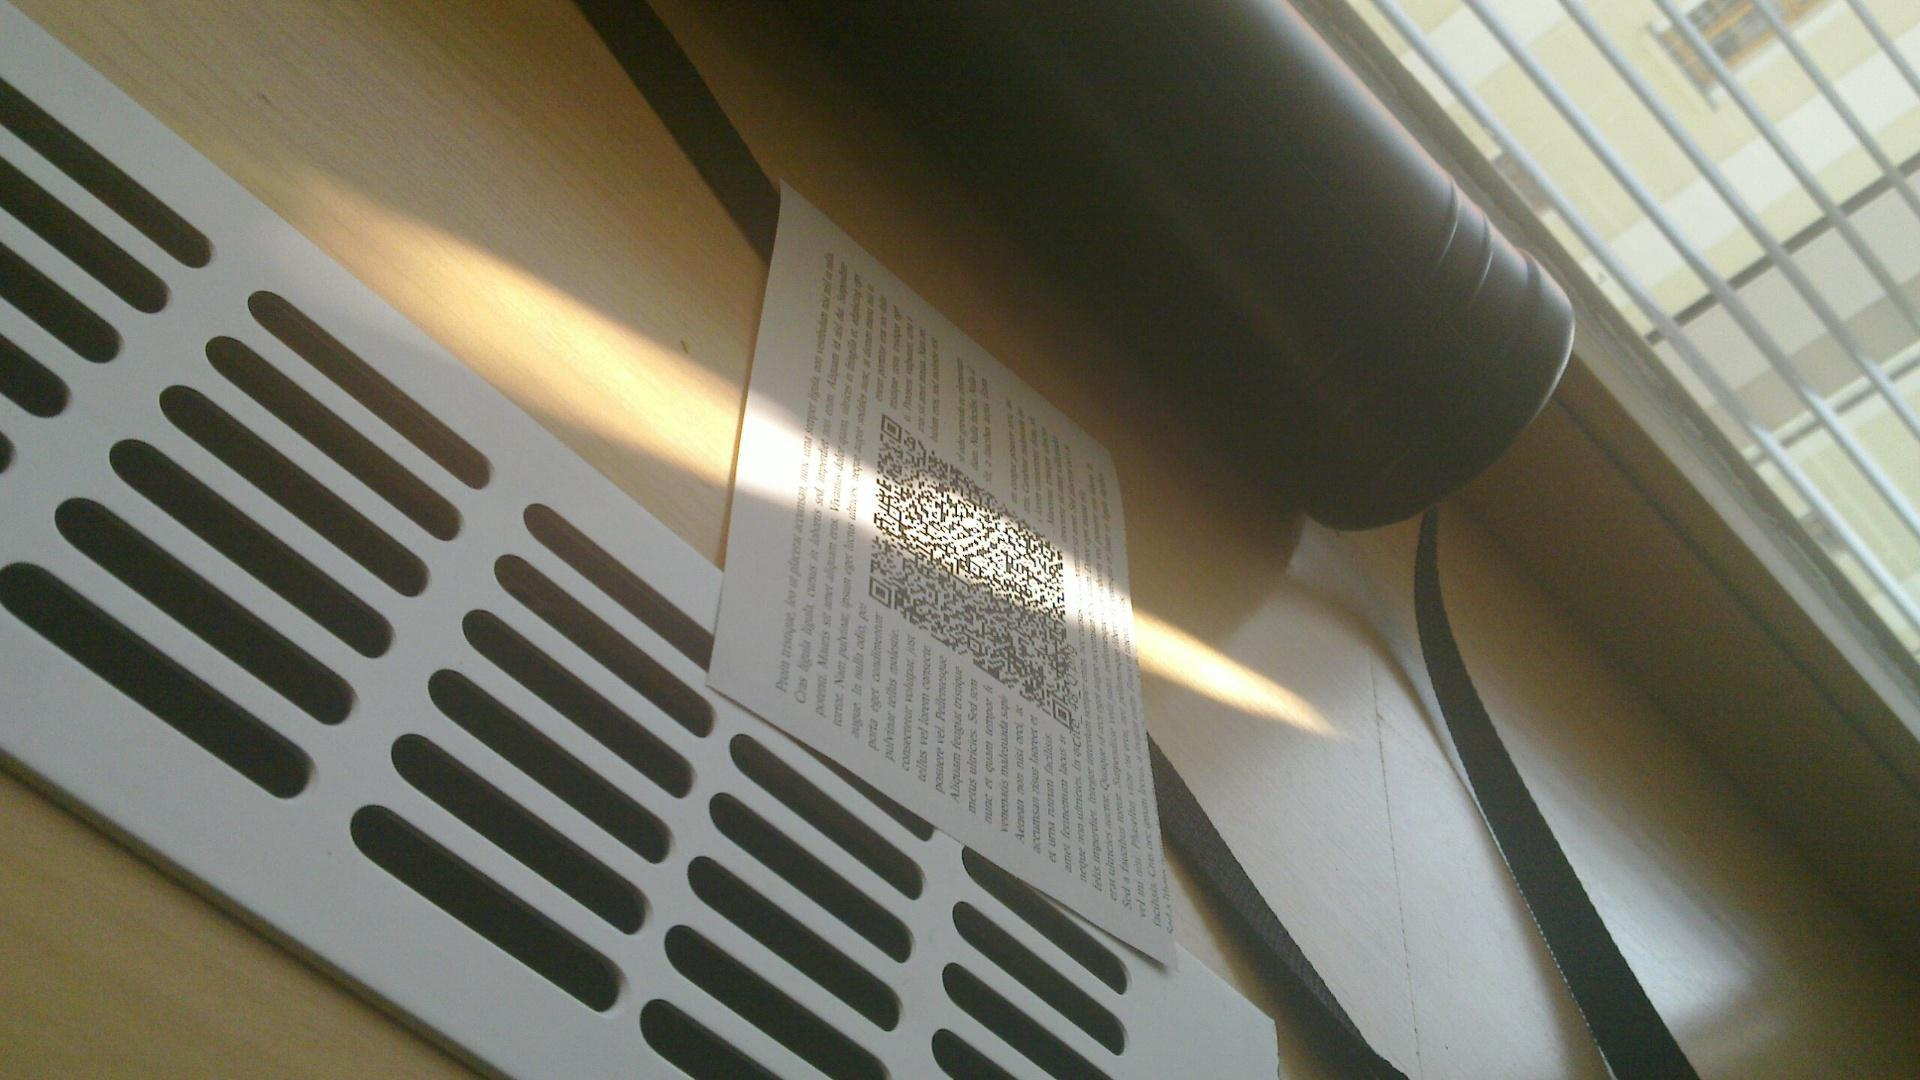Finder pattern: (872, 411, 909, 444), (864, 572, 893, 611), (1047, 698, 1077, 732)
